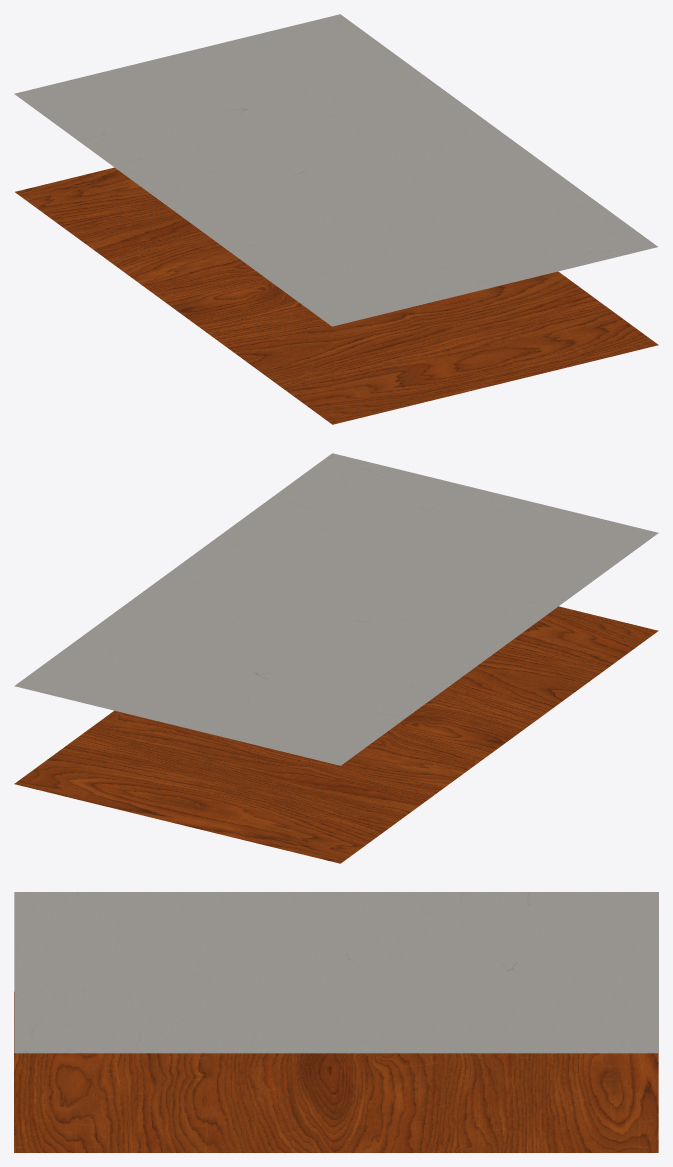
Rendered from PBR - Metallic Roughness Alpha-blend.glb.
3 views of the same model, one above another, from view 1: azimuth 30°, elevation 25°; view 2: azimuth 150°, elevation 25°; view 3: azimuth 270°, elevation 25° (orthographic).
Parts seen in each view (by area): view 1: pPlane3, pPlane1; view 2: pPlane3, pPlane1; view 3: pPlane3, pPlane1.
Boxes of the visible parts, <box> form: pPlane3: <box>14,14,657,326</box>; pPlane1: <box>15,167,658,424</box>; pPlane3: <box>14,453,658,765</box>; pPlane1: <box>14,606,658,863</box>; pPlane3: <box>14,892,658,1053</box>; pPlane1: <box>14,992,658,1152</box>.
Size of the model in its own units: 8.93 by 2.56 by 15.07.
1 material, 1 textured.
